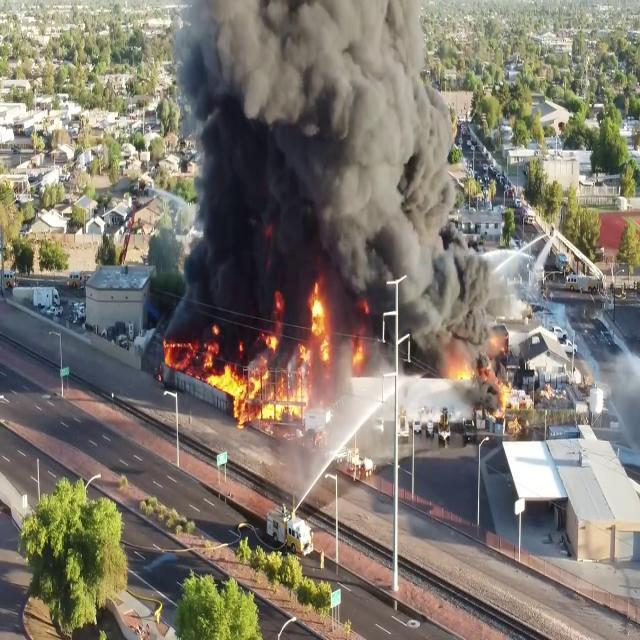Fire: (212, 316, 336, 420), (449, 348, 524, 436)
Smoke: (158, 1, 586, 362)
